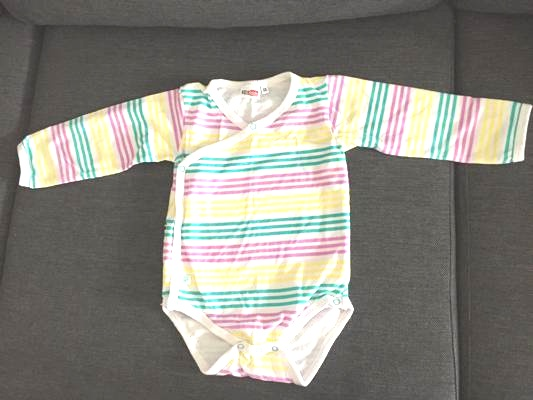Body: (14, 55, 523, 395)
